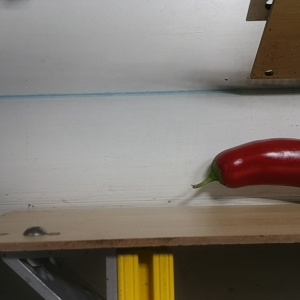Cut Point: (205, 151, 238, 190)
